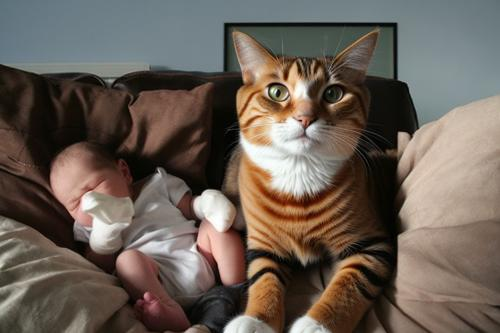cat: (222, 22, 397, 333)
person: (50, 140, 263, 332)
person/foot: (221, 239, 261, 300), (133, 292, 191, 333)
person/hand: (82, 193, 132, 233), (201, 189, 239, 232)
person/head: (49, 141, 132, 228)
sofa: (3, 71, 422, 333)
